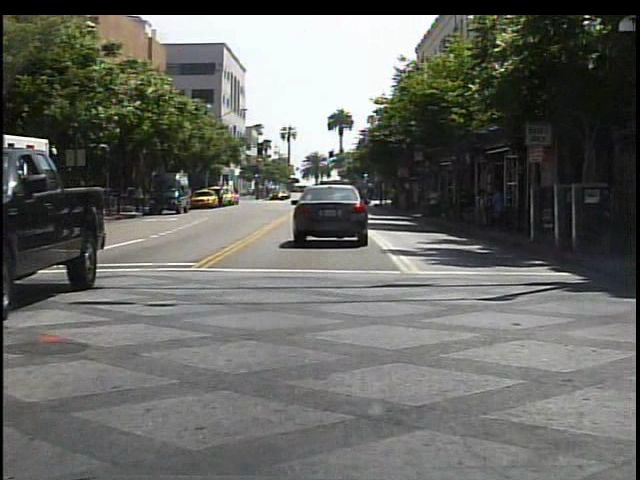person: (425, 183, 444, 221)
